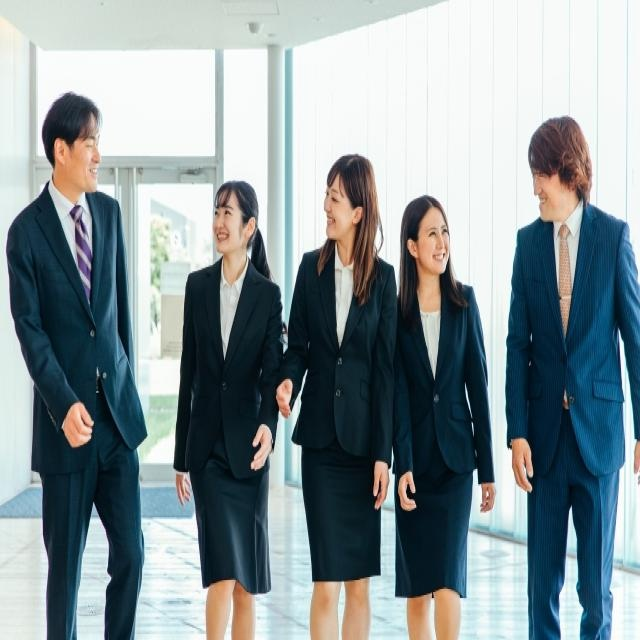Sin_Casco_Mascarrilla: (527, 117, 591, 221), (41, 94, 103, 194), (324, 153, 378, 248), (401, 196, 452, 278), (212, 180, 261, 256)
Sin_Chaleco: (512, 211, 634, 477), (6, 192, 125, 447), (294, 248, 396, 477), (178, 262, 282, 483), (392, 283, 480, 497)
